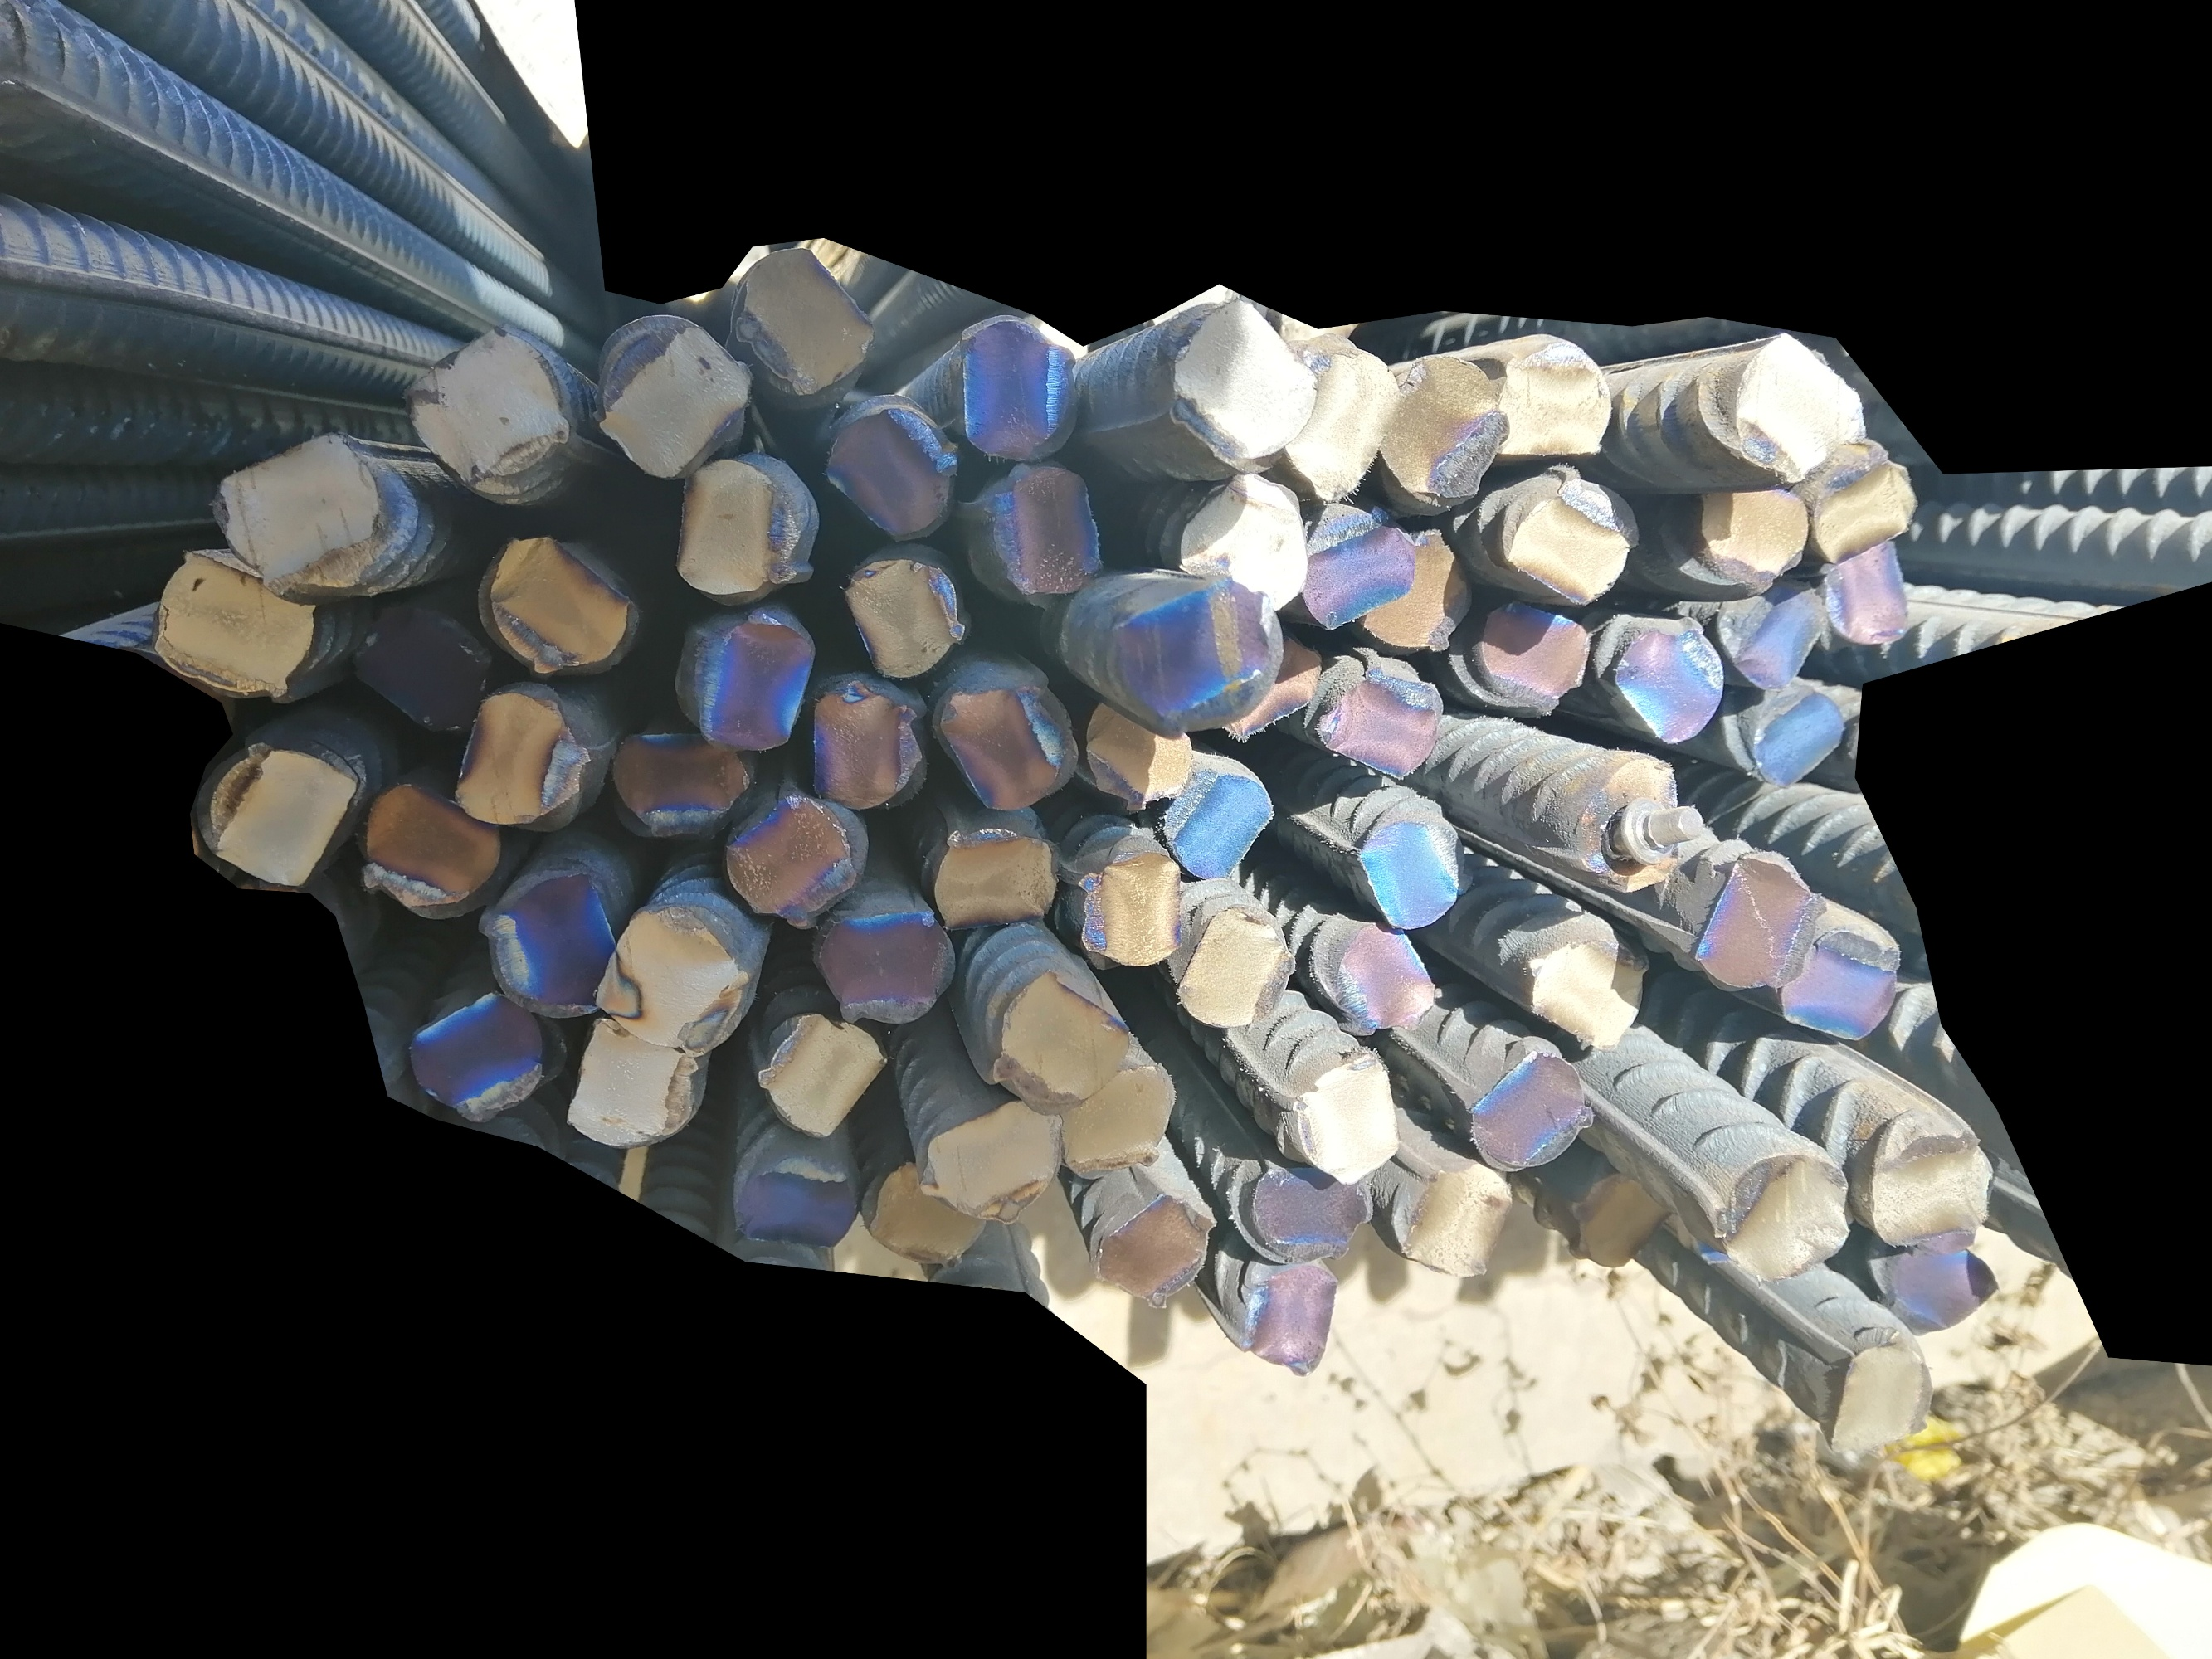rebar: (1100, 565, 1276, 728), (593, 312, 758, 479), (150, 544, 324, 702), (214, 437, 389, 594), (188, 741, 356, 897), (584, 899, 751, 1054), (413, 329, 575, 488), (1166, 296, 1316, 467), (1713, 317, 1870, 476), (725, 244, 875, 408), (464, 857, 615, 1016), (472, 528, 631, 673), (1701, 1136, 1856, 1283), (1679, 849, 1822, 1006), (976, 960, 1126, 1108), (818, 392, 964, 544), (352, 774, 509, 915), (1372, 349, 1511, 507), (403, 978, 551, 1124), (558, 1011, 709, 1154), (962, 455, 1105, 603), (1483, 472, 1642, 605), (673, 457, 811, 608), (723, 782, 861, 931), (917, 1093, 1074, 1220), (938, 669, 1075, 814), (690, 605, 819, 758), (1858, 1110, 1998, 1251), (451, 687, 589, 829), (1313, 650, 1450, 791), (1276, 1044, 1408, 1190), (1562, 746, 1691, 894), (361, 598, 499, 735), (753, 1002, 889, 1141), (1283, 340, 1400, 502), (811, 897, 957, 1026), (1464, 1028, 1591, 1176), (1480, 329, 1618, 465), (800, 674, 933, 814), (952, 312, 1075, 460), (837, 551, 973, 685), (1593, 610, 1726, 748), (1525, 920, 1651, 1065), (1177, 472, 1309, 608), (1340, 802, 1471, 938), (1769, 915, 1903, 1046), (1088, 1178, 1218, 1310), (1163, 901, 1295, 1032), (924, 814, 1063, 936), (1816, 1326, 1935, 1469), (608, 720, 753, 836), (1295, 498, 1419, 633), (1072, 842, 1196, 974), (1388, 1157, 1522, 1279), (861, 1157, 994, 1276), (1046, 1060, 1173, 1182), (1218, 619, 1328, 758), (1157, 756, 1276, 885), (734, 1133, 865, 1249), (1321, 910, 1438, 1040), (1234, 1157, 1377, 1262), (1457, 599, 1593, 709), (1358, 519, 1469, 652), (1808, 437, 1919, 568), (1682, 476, 1813, 584), (1865, 1243, 2005, 1344), (1717, 577, 1834, 695), (1075, 699, 1196, 810), (1236, 1258, 1347, 1373), (1557, 1162, 1670, 1272), (1740, 681, 1849, 791), (1822, 532, 1914, 650)
